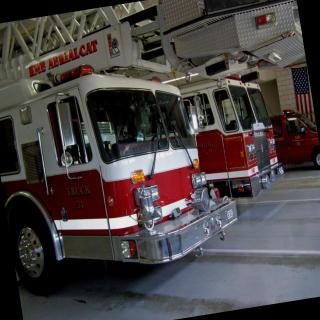Fire_truck: (0, 25, 216, 304), (172, 52, 304, 230)
